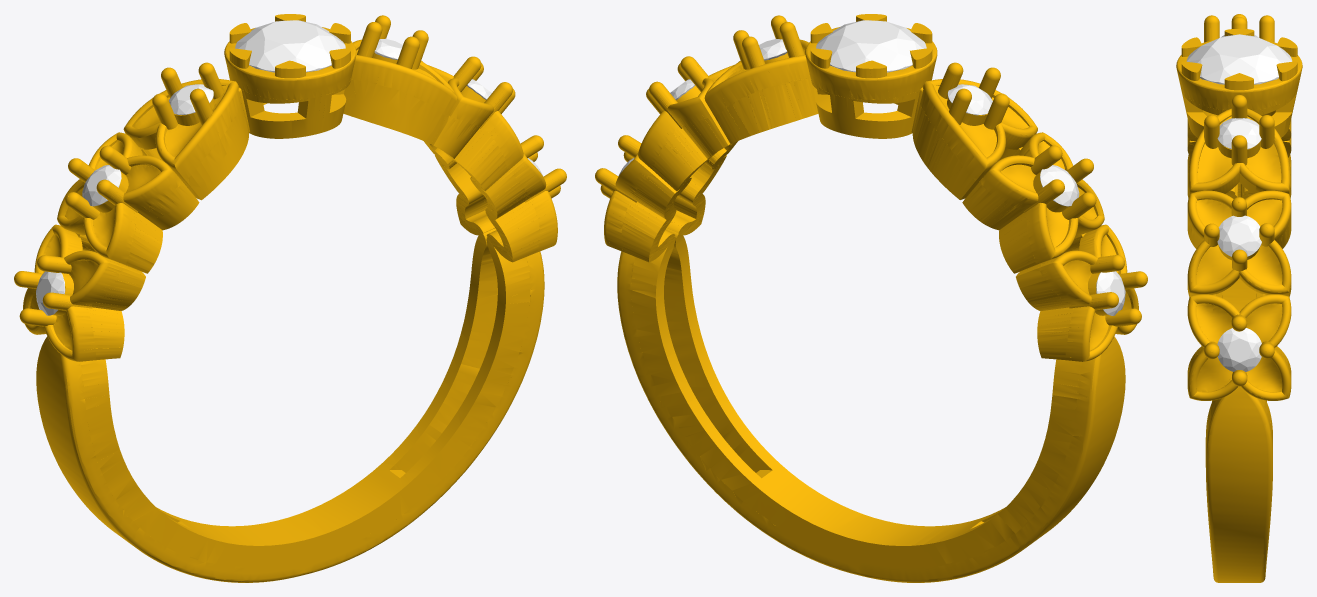
3 views of the same model, side by side, from view 1: azimuth 30°, elevation 25°; view 2: azimuth 150°, elevation 25°; view 3: azimuth 270°, elevation 25° (orthographic). The views are drawn at different scales.
Visible parts, largest first — view 1: anel com flores.3dm, Brillante (×4); view 2: anel com flores.3dm, Brillante (×4); view 3: anel com flores.3dm, Brillante (×4).
Boxes of the visible parts, bbox=[...] form: anel com flores.3dm: bbox=[14, 14, 566, 582]; Brillante (×4): bbox=[36, 20, 345, 315]; anel com flores.3dm: bbox=[595, 14, 1147, 582]; Brillante (×4): bbox=[816, 20, 1125, 315]; anel com flores.3dm: bbox=[1176, 14, 1302, 582]; Brillante (×4): bbox=[1186, 34, 1292, 371].
Size of the model in its own units: 2.87 by 2.72 by 0.609.
